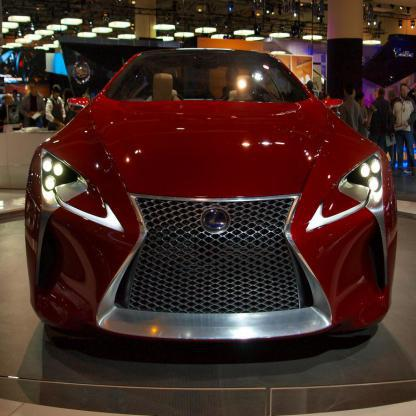car: (24, 47, 399, 345)
